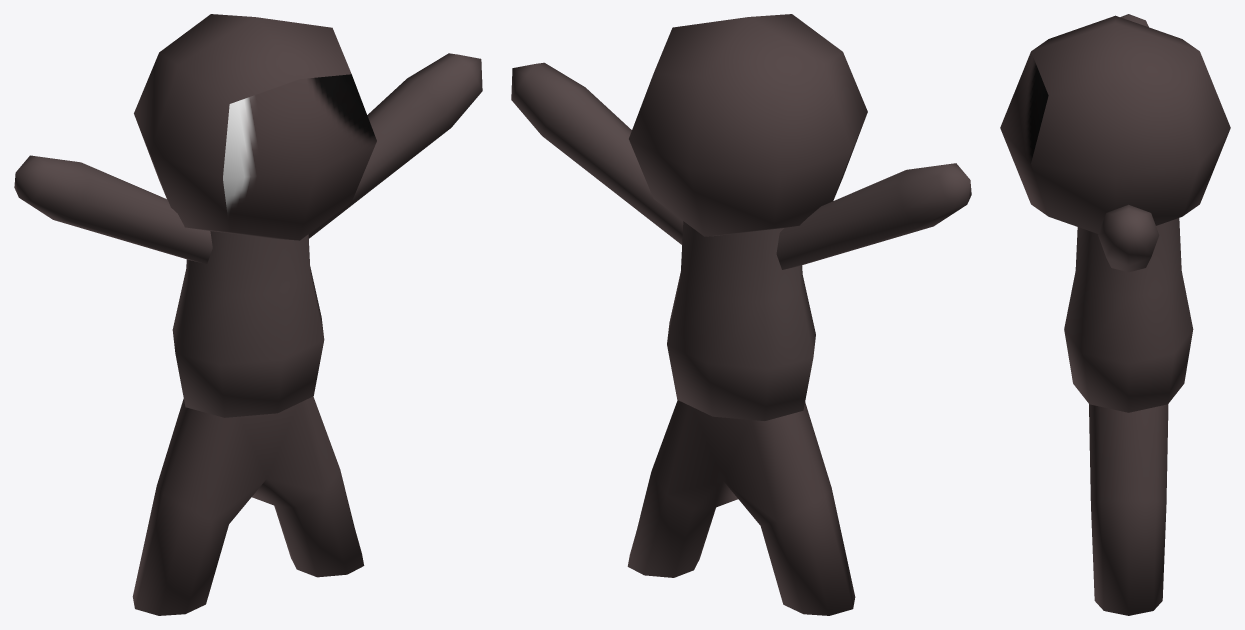
The model's file is Human.fbx.
The picture shows the model from 3 angles, left to right: view 1: azimuth 30°, elevation 25°; view 2: azimuth 150°, elevation 25°; view 3: azimuth 270°, elevation 25°; orthographic projection. The views are drawn at different scales.
Visible parts, largest first — view 1: Human; view 2: Human; view 3: Human.
Boxes of the visible parts, x1,y1,x2,y2 form: Human: (14, 14, 482, 615); Human: (511, 14, 971, 615); Human: (1000, 14, 1230, 615).
Size of the model in its own units: 3.69 by 4.31 by 1.67.
